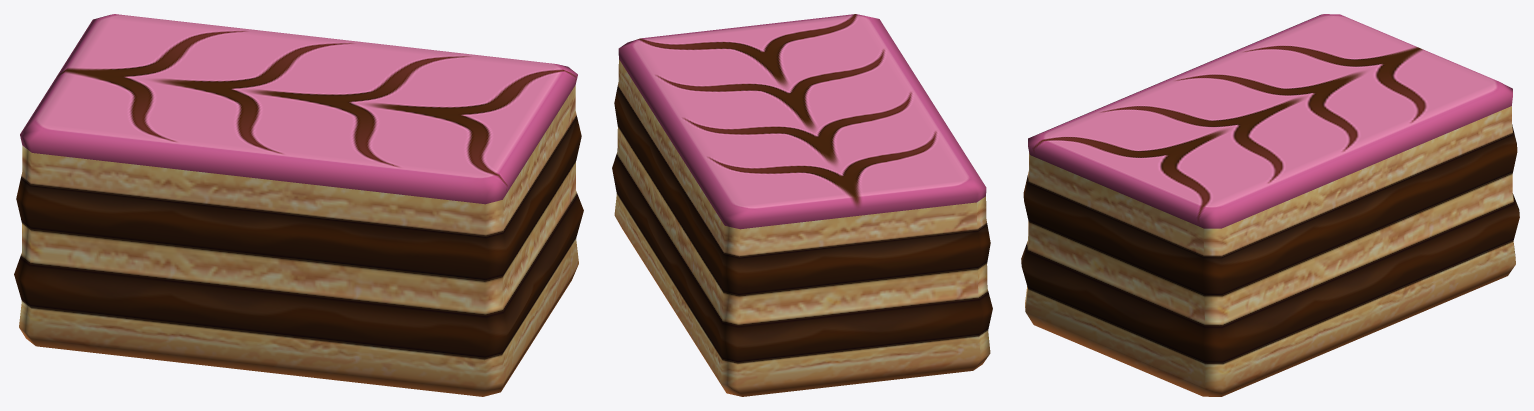
The model's file is 009-Napoleons_03.FBX.
The picture shows the model from 3 angles, left to right: view 1: azimuth 30°, elevation 25°; view 2: azimuth 150°, elevation 25°; view 3: azimuth 270°, elevation 25°; orthographic projection. The views are drawn at different scales.
Visible parts, largest first — view 1: 009-Napoleons_03; view 2: 009-Napoleons_03; view 3: 009-Napoleons_03.
Part boxes in pixels (x1=…): 009-Napoleons_03: x1=14, y1=14, x2=583, y2=396; 009-Napoleons_03: x1=612, y1=14, x2=992, y2=396; 009-Napoleons_03: x1=1021, y1=14, x2=1519, y2=396.
Bounding box in the file's own units: 17.75 × 7.29 × 17.75.
